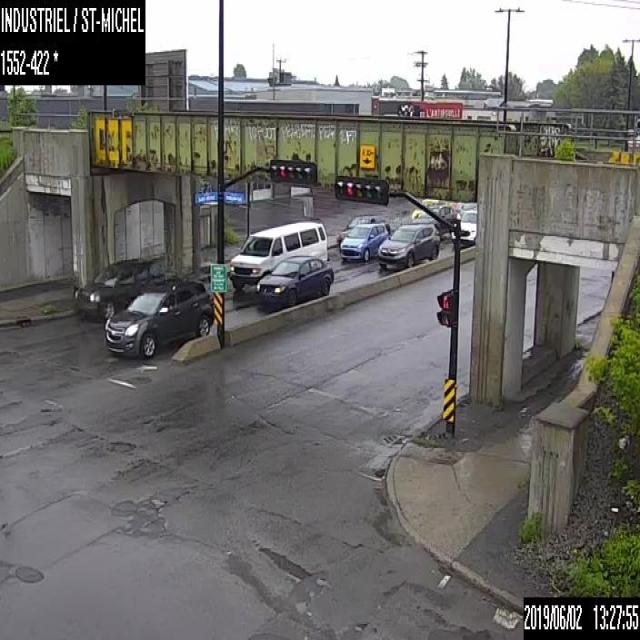vehicle: (104, 280, 212, 358), (230, 220, 328, 290), (72, 257, 166, 319), (256, 254, 333, 307), (379, 224, 440, 268), (340, 222, 388, 261), (338, 213, 384, 246), (412, 205, 457, 238), (410, 197, 458, 222), (451, 208, 477, 246)
